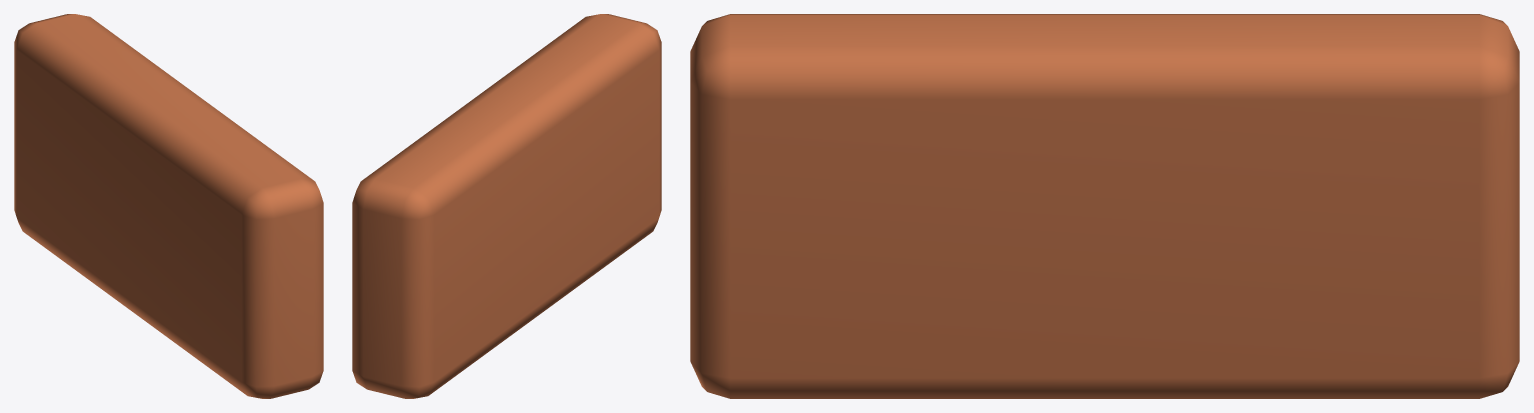
File: SM_brick_03_L.glb
3 renders of one model, left to right at view 1: azimuth 30°, elevation 25°; view 2: azimuth 150°, elevation 25°; view 3: azimuth 270°, elevation 25°, orthographic. The views are drawn at different scales.
Parts seen in each view (by area): view 1: SM_brick_03_L; view 2: SM_brick_03_L; view 3: SM_brick_03_L.
Boxes of the visible parts, left/top/right/bottom form: SM_brick_03_L: left=14, top=14, right=323, bottom=398; SM_brick_03_L: left=352, top=14, right=661, bottom=398; SM_brick_03_L: left=690, top=14, right=1519, bottom=398.
Bounding box in the file's own units: 0.0761 × 0.1925 × 0.4116.
Materials: 1 (1 with a texture image).
